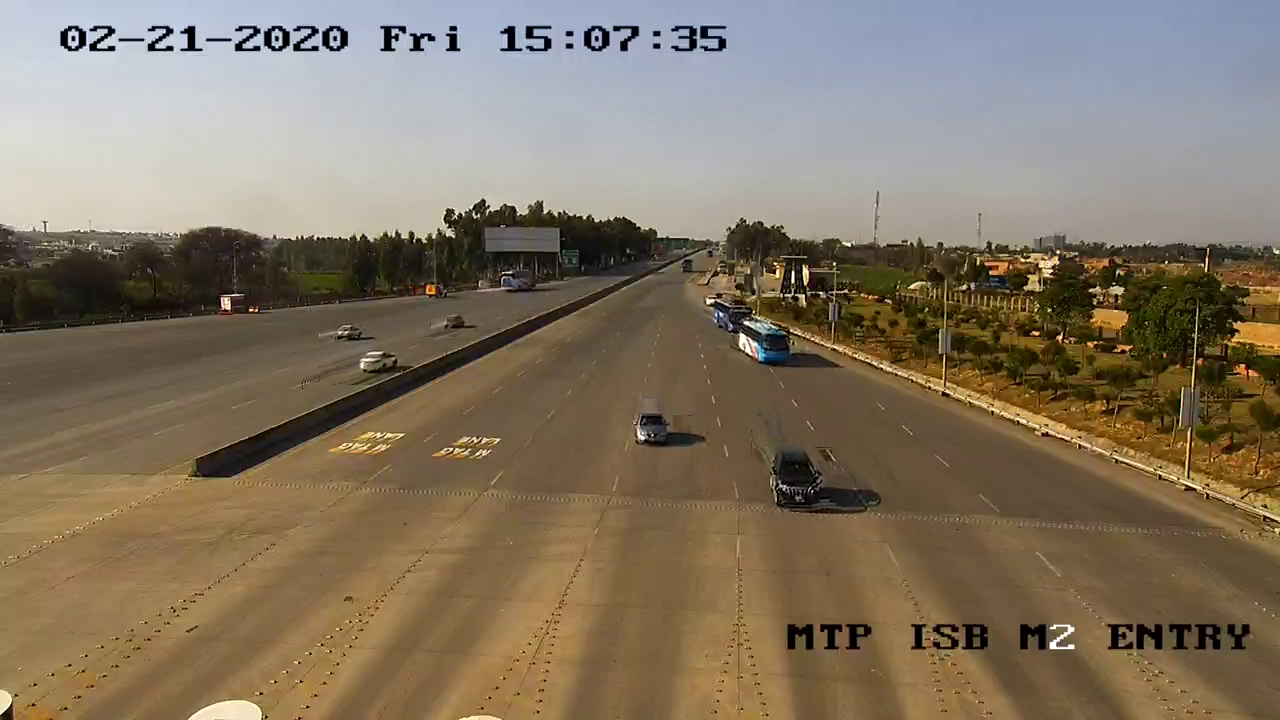f1: (755, 440, 832, 520), (626, 403, 680, 454)
